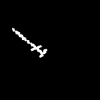double_crochet: (12, 28, 46, 56)
